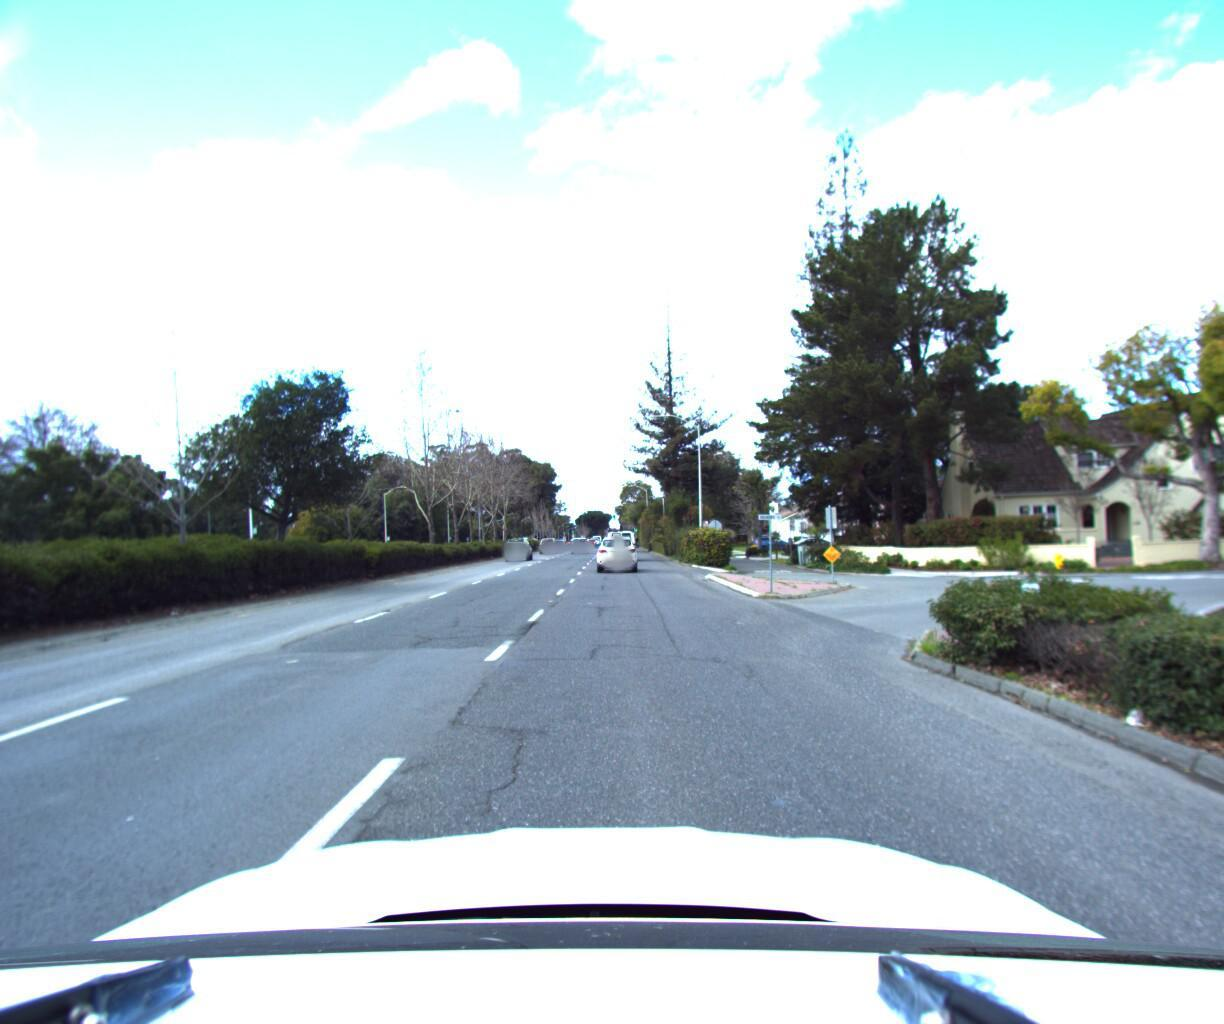car: (595, 536, 640, 578), (606, 527, 642, 565), (506, 540, 537, 565), (572, 539, 594, 557)
